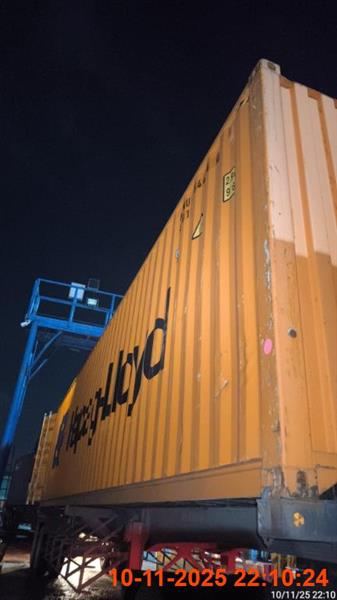hole: (12, 59, 334, 594)
